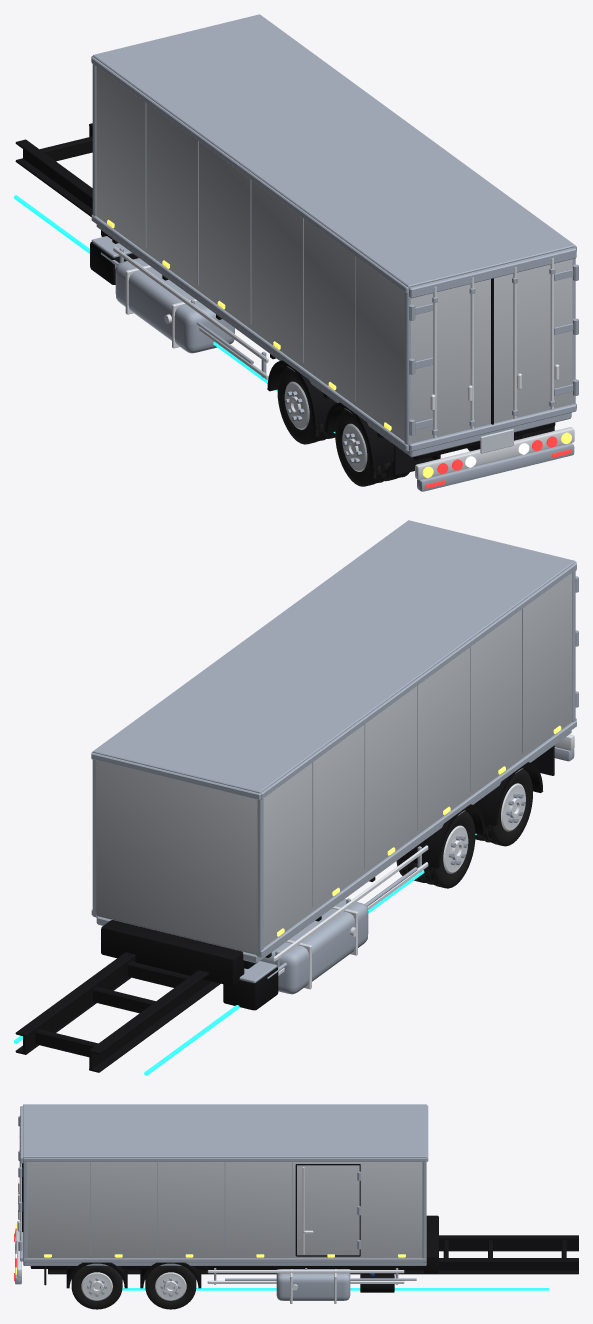
File: body_alubox.glb
3 renders of one model, top to bottom at view 1: azimuth 30°, elevation 25°; view 2: azimuth 150°, elevation 25°; view 3: azimuth 270°, elevation 25°, orthographic. The views are drawn at different scales.
Parts seen in each view (by area): view 1: truck_steel, truck_box_alu, frame_plastic_black, truck_chrome, frame_steel, wheel_r_L_1.5_1.06, wheel_r_L_3.0_1.06, frame_lamp_cyan, truck_rubber, truck_lamp_red, truck_plastic_black, truck_paint_white; view 2: truck_box_alu, truck_steel, frame_plastic_black, truck_plastic_black, frame_steel, wheel_r_L_3.0_1.06, wheel_r_L_1.5_1.06, truck_chrome, frame_lamp_cyan; view 3: truck_box_alu, truck_steel, frame_plastic_black, frame_steel, truck_chrome, wheel_r_R_1.5_1.06, wheel_r_R_3.0_1.06, truck_plastic_black, frame_lamp_cyan.
Part boxes in pixels (x1,y1,x2,y2): truck_steel: (91, 14, 578, 491); truck_box_alu: (96, 67, 572, 443); frame_plastic_black: (15, 123, 555, 466); truck_chrome: (113, 246, 574, 479); frame_steel: (91, 236, 253, 364); wheel_r_L_1.5_1.06: (335, 409, 391, 486); wheel_r_L_3.0_1.06: (277, 367, 330, 444); frame_lamp_cyan: (14, 195, 335, 433); truck_rubber: (394, 426, 554, 475); truck_lamp_red: (425, 436, 571, 488); truck_plastic_black: (101, 230, 493, 437); truck_paint_white: (480, 429, 513, 453); truck_box_alu: (95, 573, 571, 954); truck_steel: (91, 520, 578, 975); frame_plastic_black: (15, 762, 543, 1072); truck_plastic_black: (101, 758, 536, 986); frame_steel: (239, 867, 417, 994); wheel_r_L_3.0_1.06: (421, 811, 475, 888); wheel_r_L_1.5_1.06: (480, 768, 532, 846); truck_chrome: (273, 734, 574, 975); frame_lamp_cyan: (14, 833, 476, 1075); truck_box_alu: (27, 1162, 422, 1258); truck_steel: (15, 1104, 428, 1284); frame_plastic_black: (30, 1235, 578, 1292); frame_steel: (225, 1269, 416, 1300); truck_chrome: (17, 1115, 404, 1283); wheel_r_R_1.5_1.06: (71, 1265, 122, 1309); wheel_r_R_3.0_1.06: (145, 1265, 196, 1309); truck_plastic_black: (22, 1163, 438, 1274); frame_lamp_cyan: (122, 1288, 549, 1290).
Bounding box in the file's own units: 2.84 × 3.47 × 11.49.
Materials: 12 (1 with a texture image).
